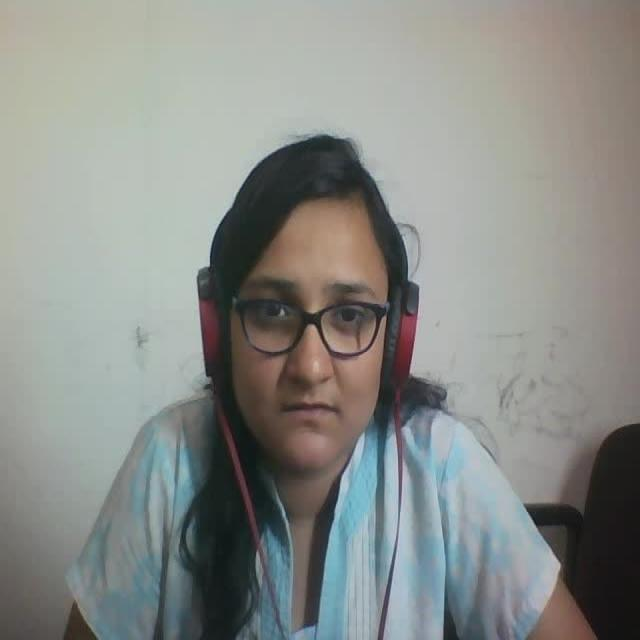Engaged: (199, 117, 415, 499)
